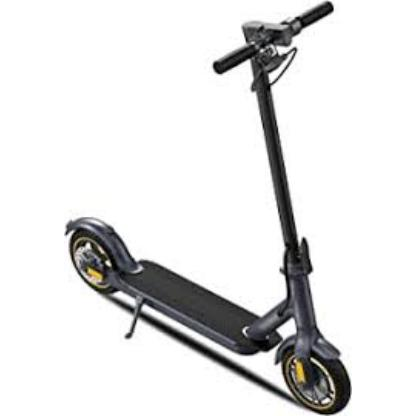bike: (64, 2, 356, 416)
